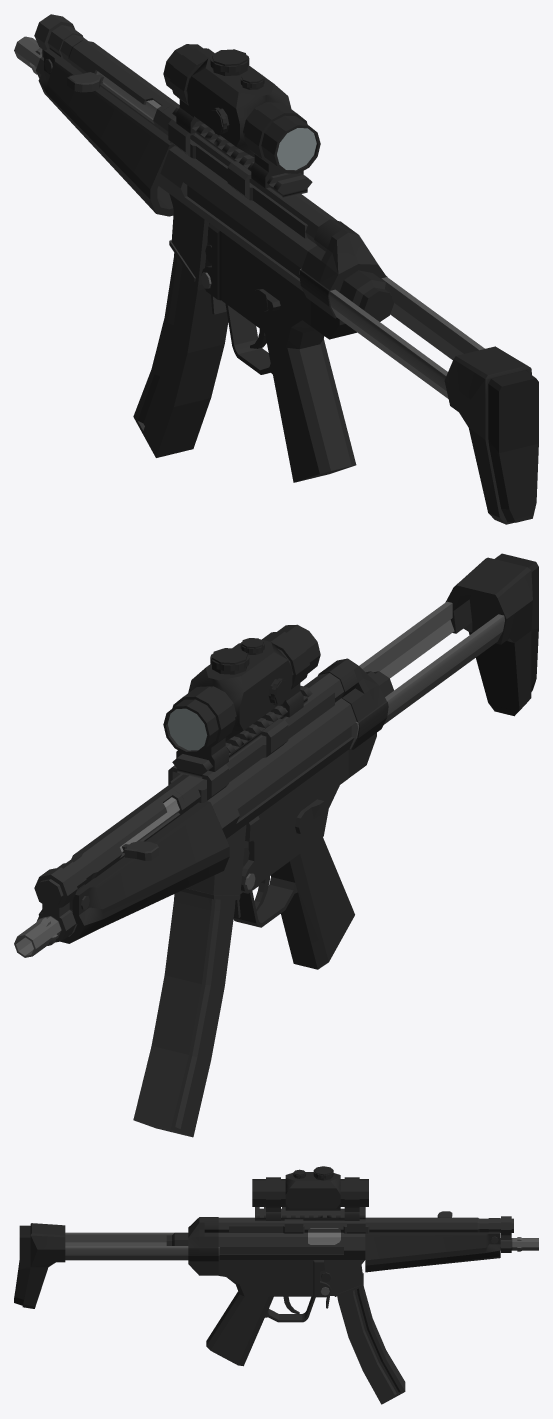
The model's file is Mpa.glb.
3 renders of one model, top to bottom at view 1: azimuth 30°, elevation 25°; view 2: azimuth 150°, elevation 25°; view 3: azimuth 270°, elevation 25°, orthographic. The views are drawn at different scales.
Parts seen in each view (by area): view 1: body, Butt_Pad, Magazine, Pistol_Grip, Handguard_Standard, Body, Stock_Collapsable, Arm_Left, Arm_Right, Piccatiny_Rail, Rings_Rear, Cylinder (+8 smaller); view 2: body, Magazine, Butt_Pad, Handguard_Standard, Pistol_Grip, Body, Arm_Left, Stock_Collapsable, Arm_Right, Rings_Front, Piccatiny_Rail, Rings_Rear (+5 smaller); view 3: body, Handguard_Standard, Magazine, Pistol_Grip, Butt_Pad, Body, Arm_Right, Stock_Collapsable, Arm_Left, Piccatiny_Rail, Rings_Front, Rings_Rear (+6 smaller).
Boxes of the visible parts, x1,y1,x2,y2 form: body: [60, 34, 337, 349]; Butt_Pad: [444, 346, 538, 524]; Magazine: [133, 253, 228, 457]; Pistol_Grip: [225, 303, 356, 482]; Handguard_Standard: [38, 49, 174, 216]; Body: [163, 44, 320, 173]; Stock_Collapsable: [299, 219, 387, 339]; Arm_Left: [299, 268, 448, 398]; Arm_Right: [381, 277, 484, 359]; Piccatiny_Rail: [172, 106, 312, 198]; Rings_Rear: [244, 102, 307, 188]; Cylinder: [339, 270, 393, 321]; body: [36, 673, 356, 906]; Magazine: [133, 891, 235, 1137]; Butt_Pad: [445, 553, 538, 716]; Handguard_Standard: [38, 801, 229, 943]; Pistol_Grip: [233, 837, 354, 969]; Body: [163, 624, 320, 754]; Arm_Left: [349, 614, 504, 749]; Stock_Collapsable: [318, 658, 388, 777]; Arm_Right: [359, 601, 454, 678]; Rings_Front: [172, 686, 235, 771]; Piccatiny_Rail: [172, 685, 312, 778]; Rings_Rear: [262, 631, 309, 717]; body: [218, 1217, 513, 1297]; Handguard_Standard: [365, 1232, 500, 1272]; Magazine: [337, 1286, 405, 1404]; Pistol_Grip: [206, 1291, 315, 1366]; Butt_Pad: [14, 1223, 65, 1308]; Body: [252, 1172, 368, 1210]; Arm_Right: [65, 1246, 219, 1260]; Stock_Collapsable: [188, 1217, 218, 1275]; Arm_Left: [65, 1232, 174, 1245]; Piccatiny_Rail: [255, 1207, 365, 1221]; Rings_Front: [344, 1177, 359, 1220]; Rings_Rear: [266, 1177, 280, 1220].
Size of the model in its own units: 0.0233 by 0.1182 by 0.2448.
7 materials, 7 textured.
